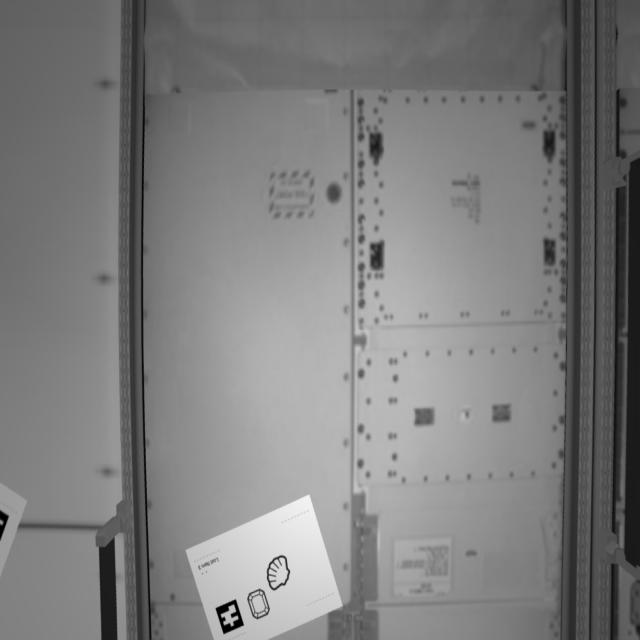emerald: (248, 587, 270, 624)
shell: (266, 553, 293, 594)
